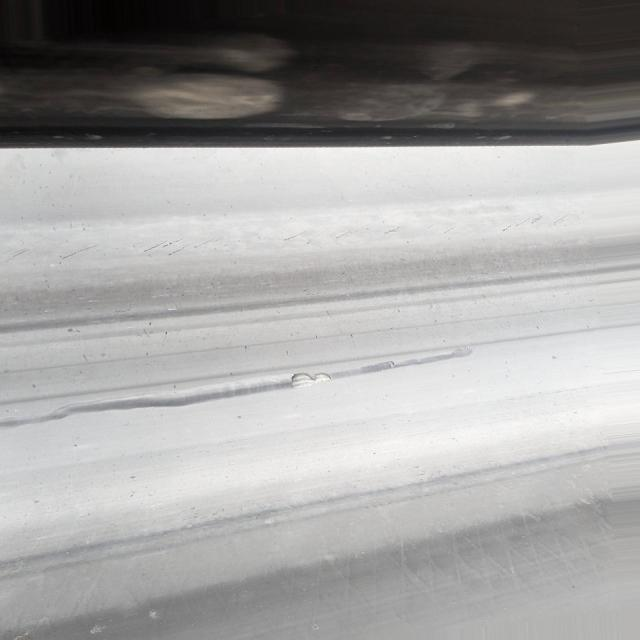Tear: (290, 368, 338, 386)
impact damage: (8, 330, 473, 434)
